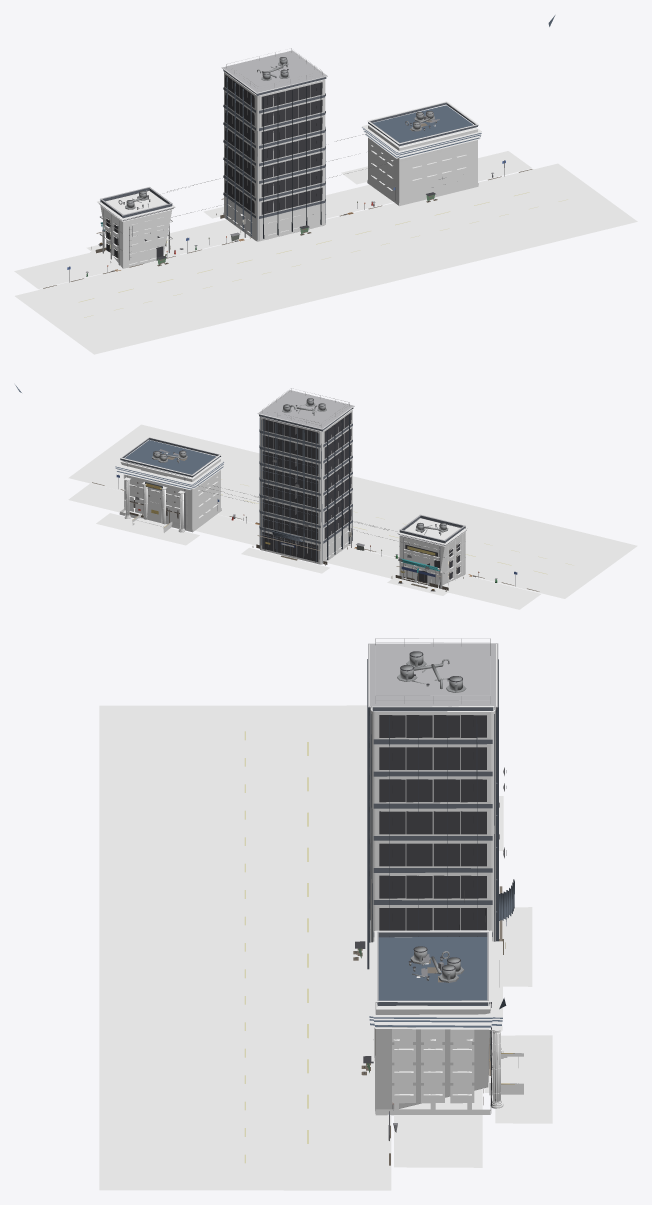
Rendered from hm_buildings_kit_v10_lod1.glb.
3 renders of one model, top to bottom at view 1: azimuth 30°, elevation 25°; view 2: azimuth 150°, elevation 25°; view 3: azimuth 270°, elevation 25°, orthographic. The views are drawn at different scales.
Parts seen in each view (by area): view 1: _LOD1tmp_hm_asphalt_v8, _LOD1tmp_hm_midrise_v10_shell, _LOD1tmp_hm_sidewalk_v8, _LOD1tmp_hm_bank_annex_v10_shell, _LOD1tmp_hm_storefront_v10_shell, _LOD1tmp_hm_midrise_v10_flash_top, _LOD1tmp_hm_bank_annex_v10_roof, _LOD1tmp_hm_storefront_v10_roof, _LOD1tmp_hm_curb_v8; view 2: _LOD1tmp_hm_asphalt_v8, _LOD1tmp_hm_sidewalk_v8, _LOD1tmp_hm_midrise_v10_shell, _LOD1tmp_hm_storefront_v10_shell, _LOD1tmp_hm_midrise_v10_flash_top, _LOD1tmp_hm_bank_annex_v10_roof, _LOD1tmp_hm_bank_annex_v10_shell, _LOD1tmp_hm_bank_annex_v10_plaza, _LOD1tmp_hm_midrise_v10_walk, _LOD1tmp_hm_storefront_v10_roof, _LOD1tmp_hm_storefront_v10_walk_f; view 3: _LOD1tmp_hm_asphalt_v8, _LOD1tmp_hm_midrise_v10_shell, _LOD1tmp_hm_midrise_v10_flash_top, _LOD1tmp_hm_bank_annex_v10_roof, _LOD1tmp_hm_sidewalk_v8, _LOD1tmp_hm_bank_annex_v10_shell, _LOD1tmp_hm_bank_annex_v10_plaza, _LOD1tmp_hm_midrise_v10_walk, _LOD1tmp_hm_midrise_v10_fin_r_4, _LOD1tmp_hm_bank_annex_v10_ent_f_7.
Boxes of the visible parts, x1,y1,x2,y2 form: _LOD1tmp_hm_asphalt_v8: (15,163,637,354); _LOD1tmp_hm_midrise_v10_shell: (224,71,325,241); _LOD1tmp_hm_sidewalk_v8: (14,151,531,289); _LOD1tmp_hm_bank_annex_v10_shell: (368,125,477,202); _LOD1tmp_hm_storefront_v10_shell: (100,205,171,268); _LOD1tmp_hm_midrise_v10_flash_top: (221,50,327,93); _LOD1tmp_hm_bank_annex_v10_roof: (372,105,473,144); _LOD1tmp_hm_storefront_v10_roof: (105,191,166,214); _LOD1tmp_hm_curb_v8: (39,169,533,290); _LOD1tmp_hm_asphalt_v8: (68,424,637,598); _LOD1tmp_hm_sidewalk_v8: (68,483,540,609); _LOD1tmp_hm_midrise_v10_shell: (259,409,352,564); _LOD1tmp_hm_storefront_v10_shell: (399,532,465,587); _LOD1tmp_hm_midrise_v10_flash_top: (257,390,354,429); _LOD1tmp_hm_bank_annex_v10_roof: (125,440,218,474); _LOD1tmp_hm_bank_annex_v10_shell: (120,458,220,529); _LOD1tmp_hm_bank_annex_v10_plaza: (96,513,199,545); _LOD1tmp_hm_midrise_v10_walk: (241,547,329,573); _LOD1tmp_hm_storefront_v10_roof: (404,518,460,539); _LOD1tmp_hm_storefront_v10_walk_f: (387,577,447,595); _LOD1tmp_hm_asphalt_v8: (99,705,391,1190); _LOD1tmp_hm_midrise_v10_shell: (370,707,495,942); _LOD1tmp_hm_midrise_v10_flash_top: (368,643,498,707); _LOD1tmp_hm_bank_annex_v10_roof: (378,937,487,1005); _LOD1tmp_hm_sidewalk_v8: (394,1088,482,1167); _LOD1tmp_hm_bank_annex_v10_shell: (375,1002,490,1109); _LOD1tmp_hm_bank_annex_v10_plaza: (495,1035,552,1123); _LOD1tmp_hm_midrise_v10_walk: (499,907,532,986); _LOD1tmp_hm_midrise_v10_fin_r_4: (367,710,370,969); _LOD1tmp_hm_bank_annex_v10_ent_f_7: (484,941,502,1017).
Size of the model in its own units: 116 by 29.97 by 43.45.
